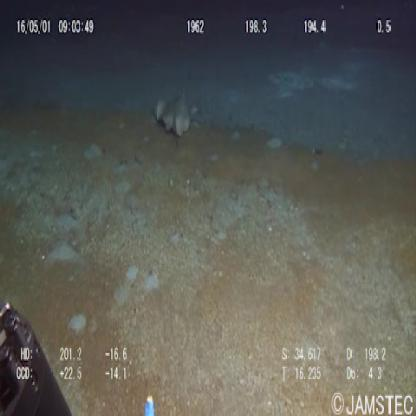Bio: (149, 87, 202, 138)
Rov: (1, 298, 73, 414)
